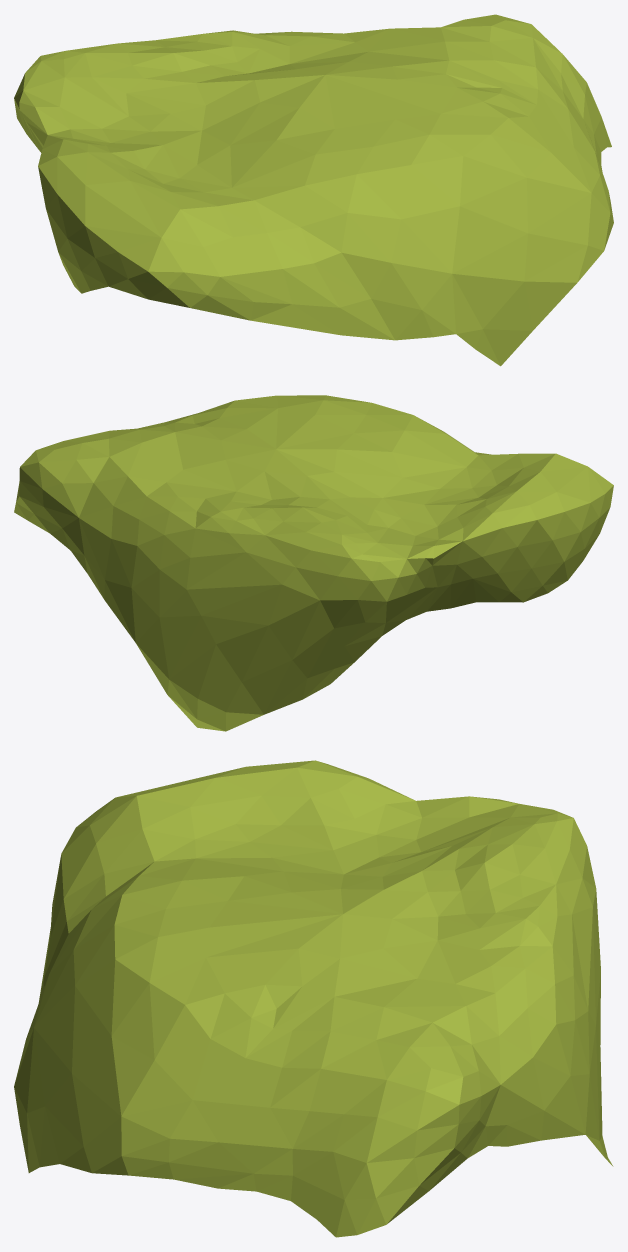
File: hill_003.glb
3 views of the same model, one above another, from view 1: azimuth 30°, elevation 25°; view 2: azimuth 150°, elevation 25°; view 3: azimuth 270°, elevation 25° (orthographic). The views are drawn at different scales.
Visible parts, largest first — view 1: hill_003; view 2: hill_003; view 3: hill_003.
Boxes of the visible parts, <box> form: hill_003: <box>14,14,613,366</box>; hill_003: <box>14,395,613,731</box>; hill_003: <box>14,760,613,1237</box>.
Bounding box in the file's own units: 71.89 × 26.69 × 54.09.
1 material, 1 textured.
